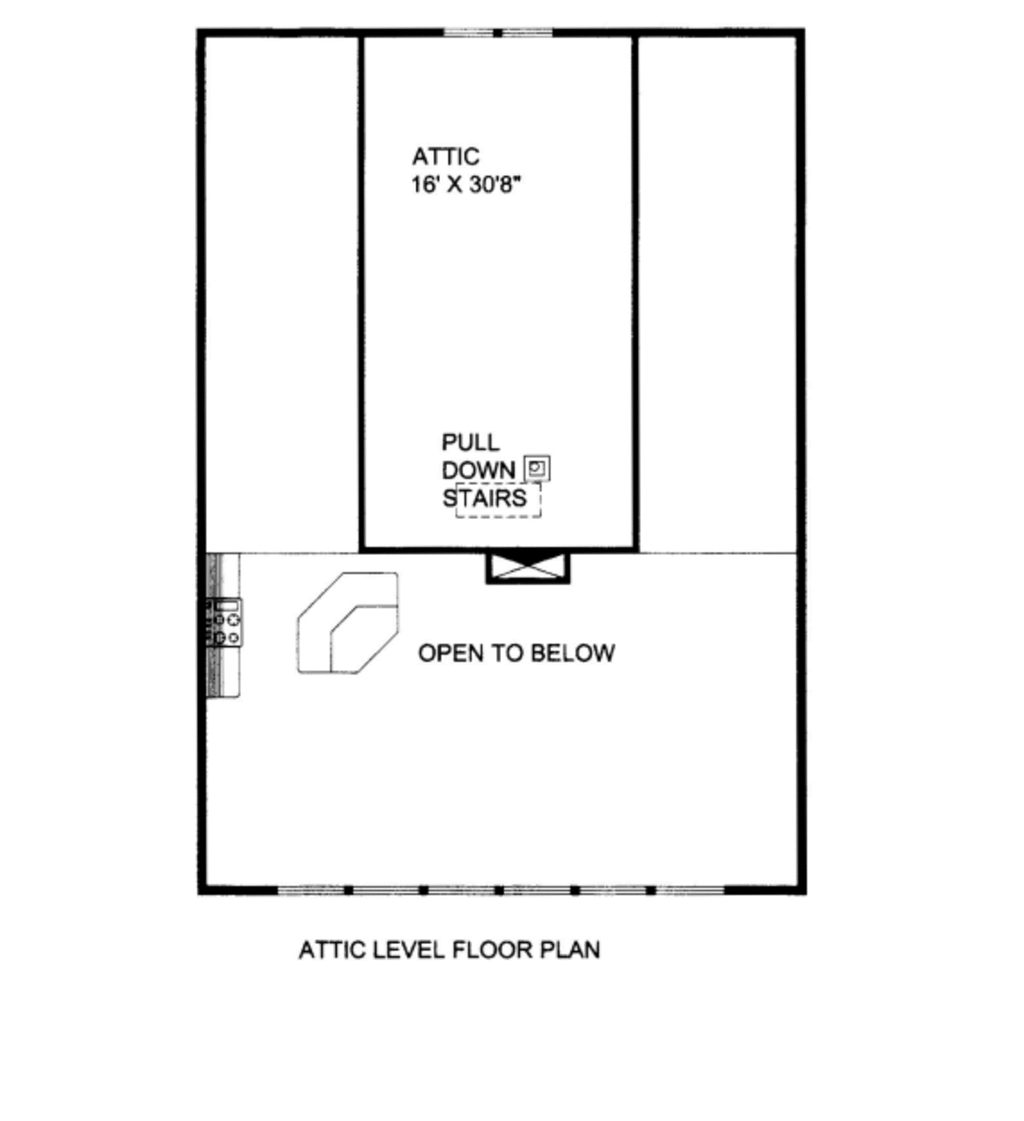kitchen_bar: (197, 553, 399, 707)
window: (441, 14, 561, 53), (580, 874, 666, 904), (651, 877, 733, 906), (507, 875, 578, 906), (265, 882, 360, 902), (419, 877, 505, 899), (355, 879, 429, 899)
